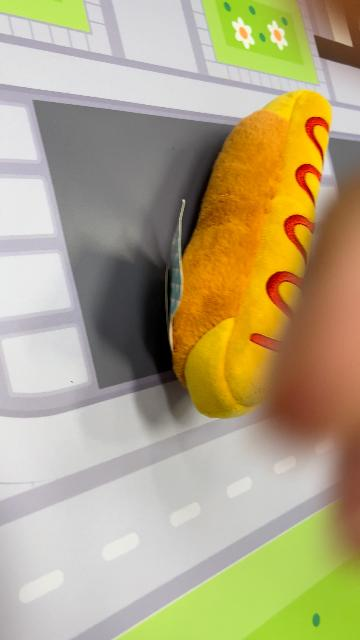hotdog: (167, 88, 334, 420)
